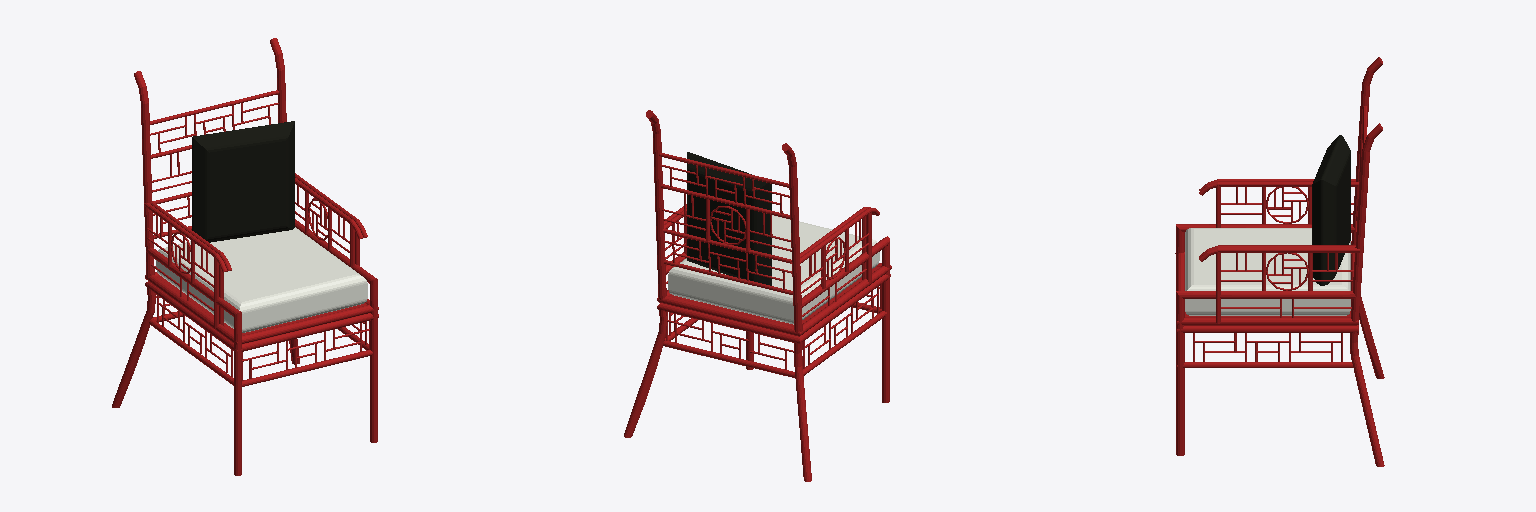
Rendered from sofa4.obj.
3 views of the same model, side by side, from view 1: azimuth 30°, elevation 25°; view 2: azimuth 150°, elevation 25°; view 3: azimuth 270°, elevation 25° (orthographic).
Bounding box in the file's own units: 25.81 × 43.5 × 24.92.